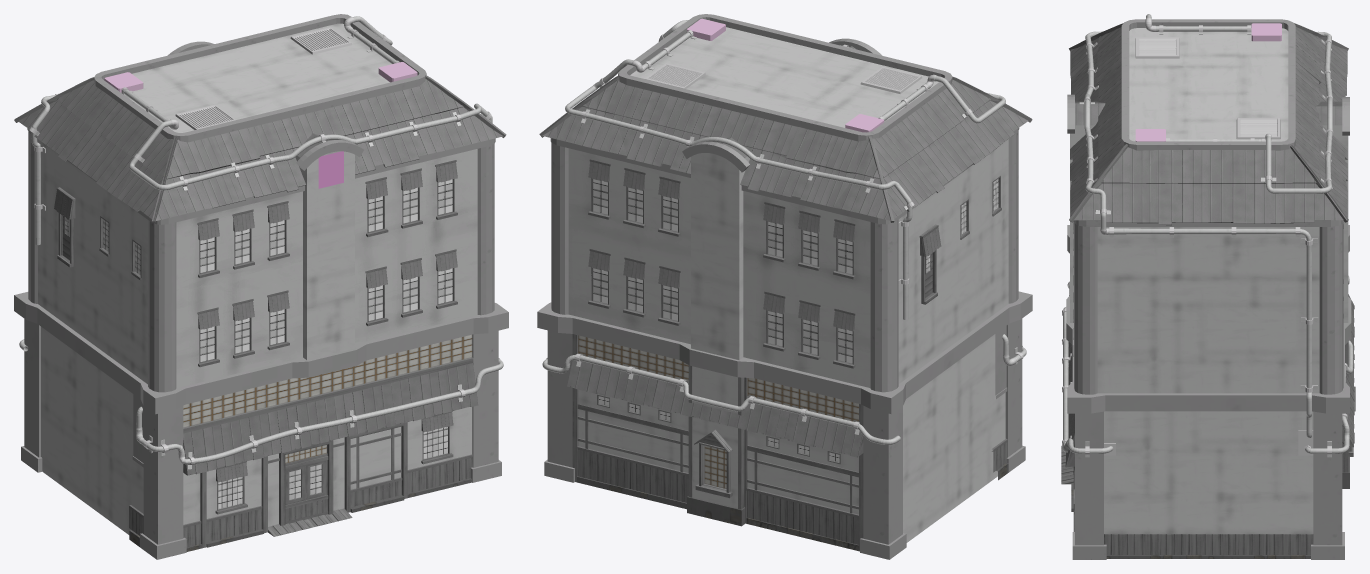
Rendered from SM_ENV_KNVLLG_AreaG_Building_B.mo.fbx.
3 views of the same model, side by side, from view 1: azimuth 30°, elevation 25°; view 2: azimuth 150°, elevation 25°; view 3: azimuth 270°, elevation 25° (orthographic).
Visible parts, largest first — view 1: SM_ENV_KNVLLG_AreaG_Building_B.mo; view 2: SM_ENV_KNVLLG_AreaG_Building_B.mo; view 3: SM_ENV_KNVLLG_AreaG_Building_B.mo.
Boxes of the visible parts, box(x1,y1,x2,y2) form: SM_ENV_KNVLLG_AreaG_Building_B.mo: box(14, 14, 508, 559); SM_ENV_KNVLLG_AreaG_Building_B.mo: box(537, 14, 1032, 559); SM_ENV_KNVLLG_AreaG_Building_B.mo: box(1061, 14, 1355, 559).
Size of the model in its own units: 16.46 by 17.49 by 11.68.
